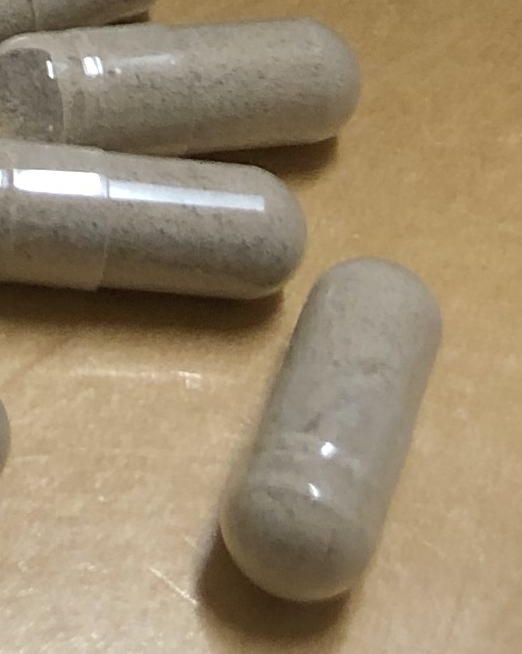capsule: (217, 251, 443, 600), (1, 14, 362, 156), (5, 140, 308, 301)
